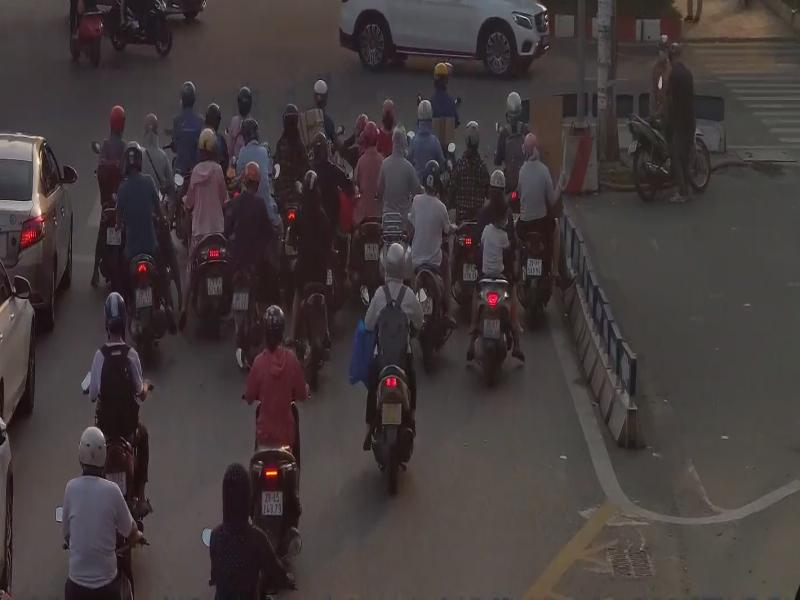helmet: (76, 425, 108, 477), (106, 290, 127, 331), (264, 302, 285, 334), (385, 244, 405, 274), (282, 102, 300, 132), (199, 127, 219, 154), (125, 140, 143, 170), (242, 162, 262, 186), (506, 90, 522, 119), (423, 159, 440, 186), (240, 116, 259, 140), (237, 86, 254, 112), (489, 169, 507, 192), (380, 97, 395, 124), (435, 58, 451, 83), (303, 169, 319, 194), (204, 102, 222, 124), (417, 100, 434, 123), (110, 106, 126, 130), (466, 121, 480, 146), (313, 80, 329, 101), (313, 131, 329, 152), (143, 113, 159, 134), (364, 121, 380, 141), (525, 133, 538, 155), (180, 81, 195, 98), (658, 34, 670, 52), (670, 43, 682, 57)
license_plate: (262, 491, 282, 518), (383, 403, 402, 423), (484, 318, 501, 340), (232, 292, 250, 311), (364, 242, 380, 262), (207, 277, 224, 295), (135, 288, 153, 304), (106, 226, 122, 244), (527, 258, 542, 276), (463, 262, 478, 280)
motorcyclist: (81, 290, 155, 558), (244, 303, 308, 548), (57, 423, 144, 600), (368, 240, 421, 497), (120, 140, 166, 360), (290, 173, 334, 396), (410, 159, 455, 367), (190, 125, 232, 338), (477, 168, 516, 388), (516, 132, 557, 319), (451, 119, 486, 310)
